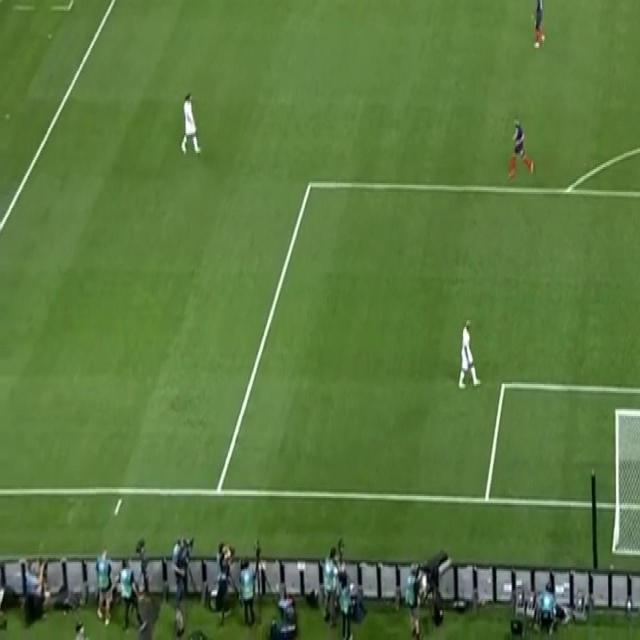player-white: (505, 111, 535, 183), (456, 316, 483, 394), (178, 86, 204, 160), (528, 0, 547, 54)
